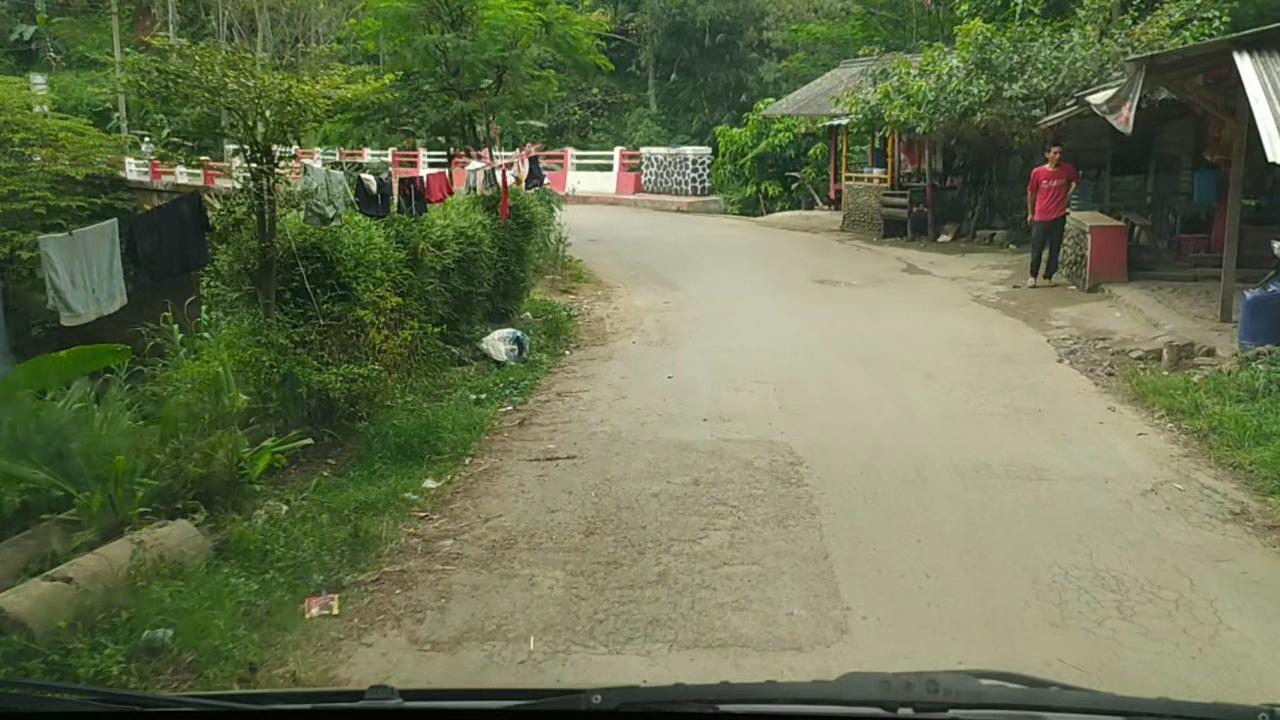pothole: (895, 256, 934, 276), (811, 277, 856, 289)
